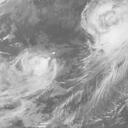cyclone: (14, 48, 58, 89)
